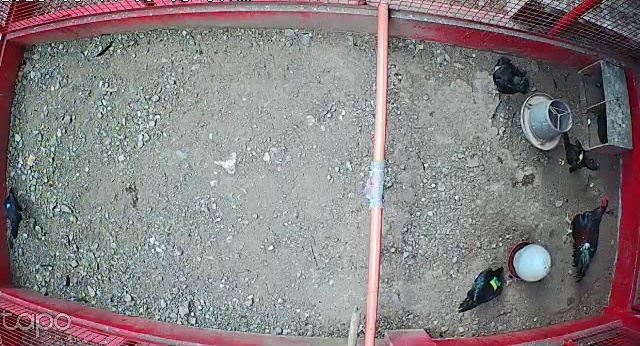Chicken: (554, 128, 609, 178), (455, 265, 506, 314), (484, 53, 535, 100), (3, 185, 26, 243)
Rooster: (562, 196, 613, 285)
Saddle_Color_Blue: (6, 203, 11, 209)
Saddle_Color_Yellow: (577, 151, 585, 164)
Saddle_Color_YellowGreen: (489, 278, 500, 292)
